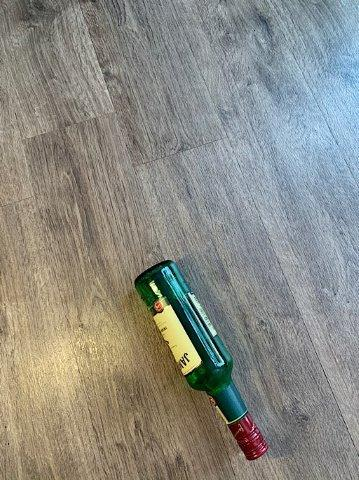botolkaca: (135, 261, 267, 460)
